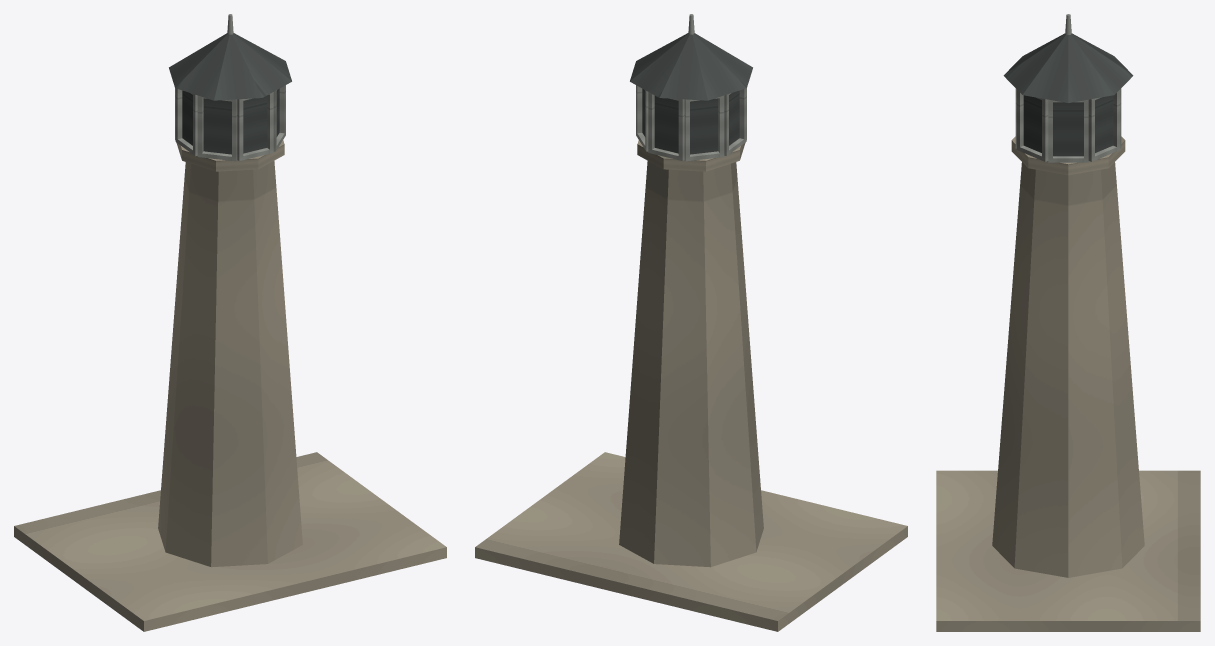
3 views of the same model, side by side, from view 1: azimuth 30°, elevation 25°; view 2: azimuth 150°, elevation 25°; view 3: azimuth 270°, elevation 25° (orthographic).
Visible parts, largest first — view 1: saint-pierre; view 2: saint-pierre; view 3: saint-pierre.
Boxes of the visible parts, bbox=[...] form: saint-pierre: bbox=[14, 14, 446, 631]; saint-pierre: bbox=[475, 14, 907, 631]; saint-pierre: bbox=[936, 14, 1200, 631].
Size of the model in its own units: 3.5 by 5.88 by 2.6.
Materials: 1 (1 with a texture image).
